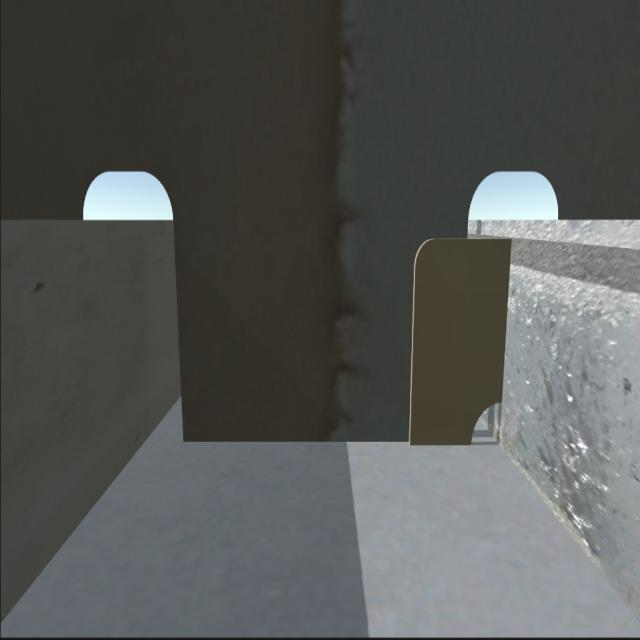fillet_hole: (463, 386, 502, 450)
fillet_yong_jeop_jang: (173, 435, 472, 455)
longi_yong_jeop_jang: (496, 238, 516, 407)
plate_CP05: (411, 232, 502, 445)
